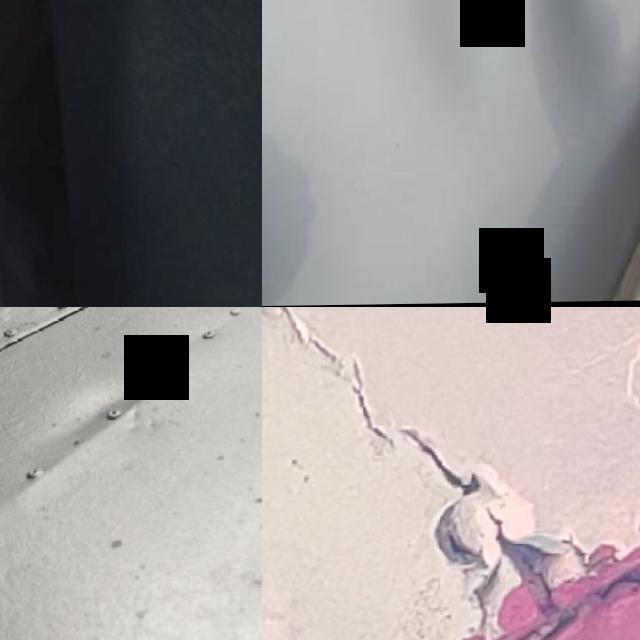Crack: (262, 307, 628, 640), (262, 588, 327, 640)
Dent: (41, 348, 179, 472), (532, 0, 640, 135), (218, 456, 262, 610)
